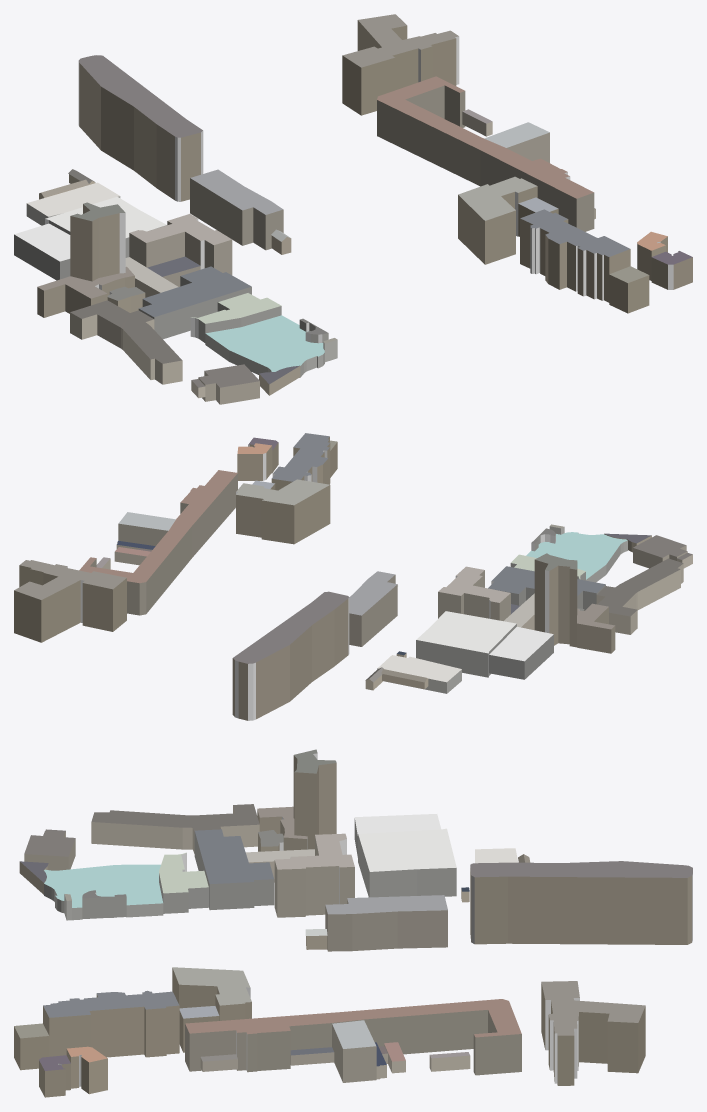
3 views of the same model, one above another, from view 1: azimuth 30°, elevation 25°; view 2: azimuth 150°, elevation 25°; view 3: azimuth 270°, elevation 25° (orthographic). The views are drawn at different scales.
Visible parts, largest first — view 1: tuile; view 2: tuile; view 3: tuile.
Boxes of the visible parts, <box> form: tuile: <box>14,14,692,404</box>; tuile: <box>14,433,692,720</box>; tuile: <box>14,749,692,1097</box>.
Size of the model in its own units: 281 by 46.13 by 292.
